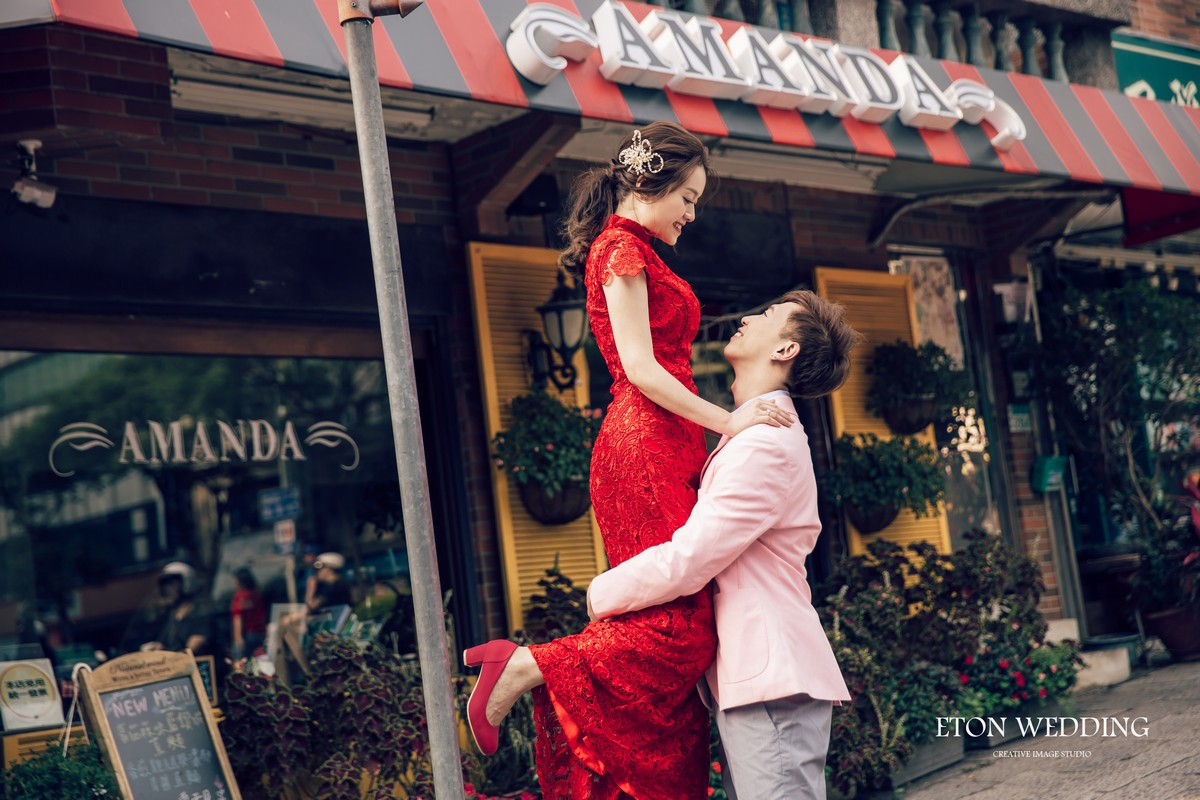people: (553, 127, 702, 698), (711, 285, 834, 800)
